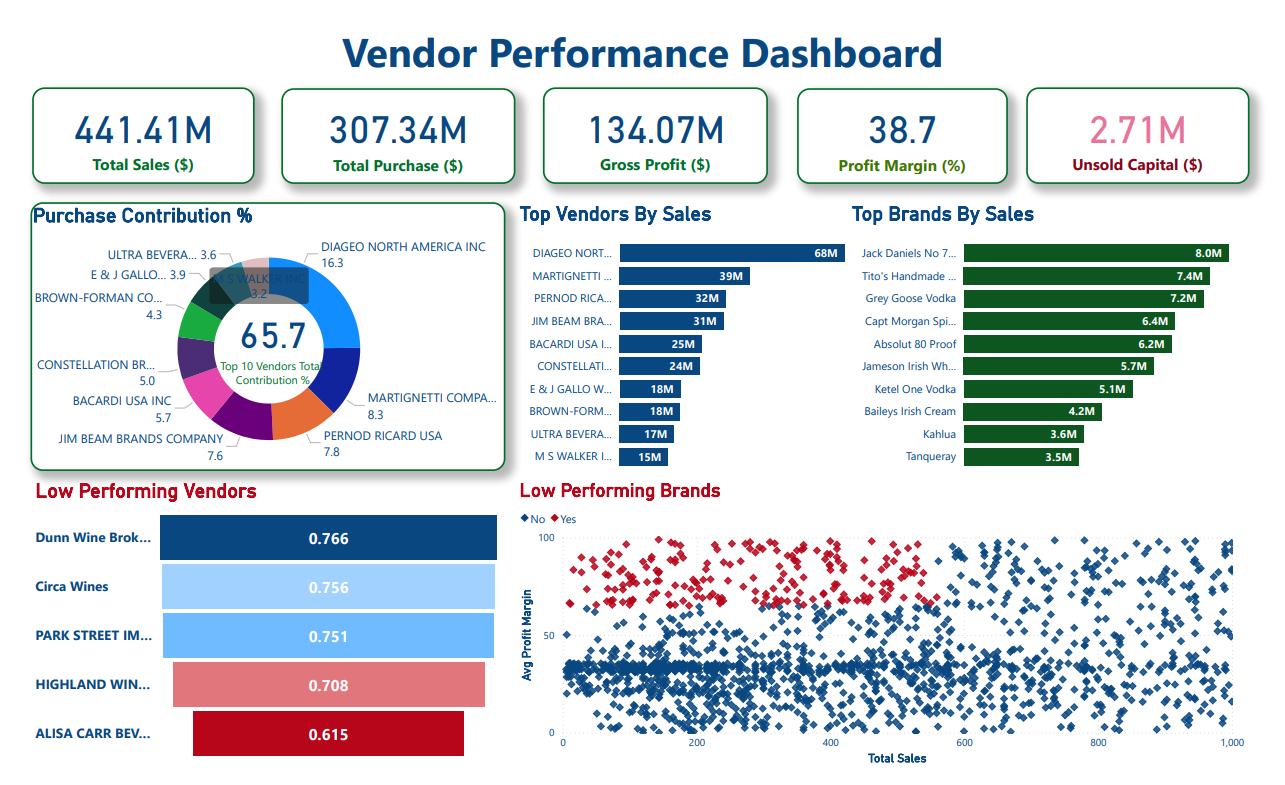

Layout of this report page (visuals, bound fields, positions):
{"tool":"powerbi","page":{"name":"Page 1","canvas":[1500,900],"ordinal":0},"visuals":[{"type":"card","fields":{"Values":["Sum(vendor_sales_summary.TotalPurchaseDollars)"]},"box":[315.8,82.4,280.9,114.6],"z":0},{"type":"card","fields":{"Values":["Sum(vendor_sales_summary.TotalSalesDollars)"]},"box":[16.8,81,266.9,116],"z":1000},{"type":"card","fields":{"Values":["Sum(vendor_sales_summary.GrossProfit)"]},"box":[630.2,81,269.7,116],"z":2000},{"type":"card","fields":{"Values":["Avg(vendor_sales_summary.ProfitMargin)"]},"box":[934.8,82.4,252.9,114.6],"z":3000},{"type":"card","fields":{"Values":["Sum(vendor_sales_summary.UnsoldCapital)"]},"box":[1210.1,81,268.3,116],"z":4000},{"type":"textbox","box":[0,0,1500,83],"z":5000},{"type":"donutChart","title":"Purchase Contribution % ","fields":{"Category":["PurchaseContribution.VendorName"],"Y":["Sum(PurchaseContribution.PurchaseContribution%)"]},"box":[14.5,219.4,571,322.6],"z":6000},{"type":"card","fields":{"Values":["Sum(PurchaseContribution.PurchaseContribution%)"]},"box":[211.8,266.7,188.2,233.3],"z":7000},{"type":"barChart","title":"Top Vendors By Sales","fields":{"Category":["vendor_sales_summary.VendorName"],"Y":["Sum(vendor_sales_summary.TotalSalesDollars)"]},"box":[597.3,219.2,447.9,332.9],"z":8000},{"type":"barChart","title":"Top Brands By Sales","fields":{"Category":["vendor_sales_summary.Description"],"Y":["Sum(vendor_sales_summary.TotalSalesDollars)"]},"box":[995.9,219.2,504.1,332.9],"z":9000},{"type":"funnel","title":"Low Performing Vendors","fields":{"Category":["LowTurnoverVendor.VendorName"],"Y":["Avg(LowTurnoverVendor.AvgStockTurnOver)"]},"box":[16.1,551.6,569.4,348.4],"z":10000},{"type":"scatterChart","title":"Low Performing Brands","fields":{"X":["Sum(BrandPerformance.TotalSales)"],"Y":["Sum(BrandPerformance.AvgProfitMargin)"],"Series":["BrandPerformance.TargetBrand"],"Category":["BrandPerformance.Description"]},"box":[596.8,551.6,880.6,348.4],"z":11000}]}

Visuals, with their boxes in screenshot pixels (x1, y1, x2, y2), scaled from the page's 1500x900 canvas onto the 1285x785 screenshot:
card - Sum(vendor_sales_summary.TotalPurchaseDollars): 271, 72, 511, 172
card - Sum(vendor_sales_summary.TotalSalesDollars): 14, 71, 243, 172
card - Sum(vendor_sales_summary.GrossProfit): 540, 71, 771, 172
card - Avg(vendor_sales_summary.ProfitMargin): 801, 72, 1017, 172
card - Sum(vendor_sales_summary.UnsoldCapital): 1037, 71, 1266, 172
textbox: 0, 0, 1284, 72
"Purchase Contribution % " donutChart: 12, 191, 502, 473
card - Sum(PurchaseContribution.PurchaseContribution%): 181, 233, 343, 436
"Top Vendors By Sales" barChart: 512, 191, 895, 482
"Top Brands By Sales" barChart: 853, 191, 1284, 482
"Low Performing Vendors" funnel: 14, 481, 502, 784
"Low Performing Brands" scatterChart: 511, 481, 1266, 784
